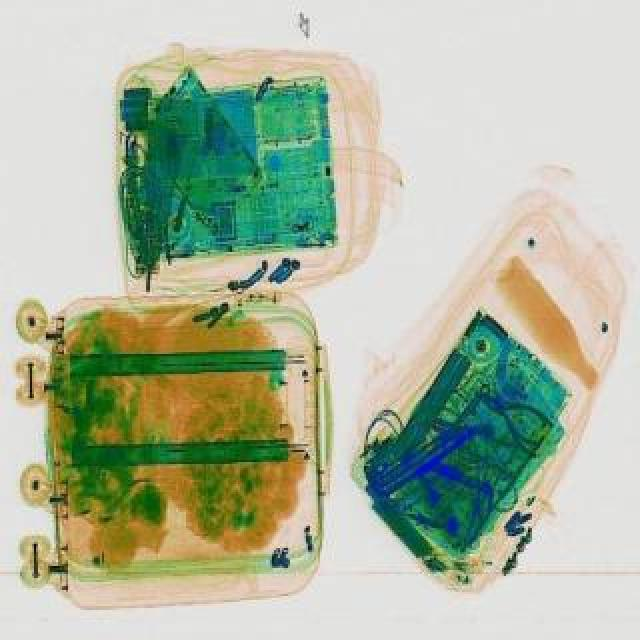wrench: (468, 382, 560, 454)
